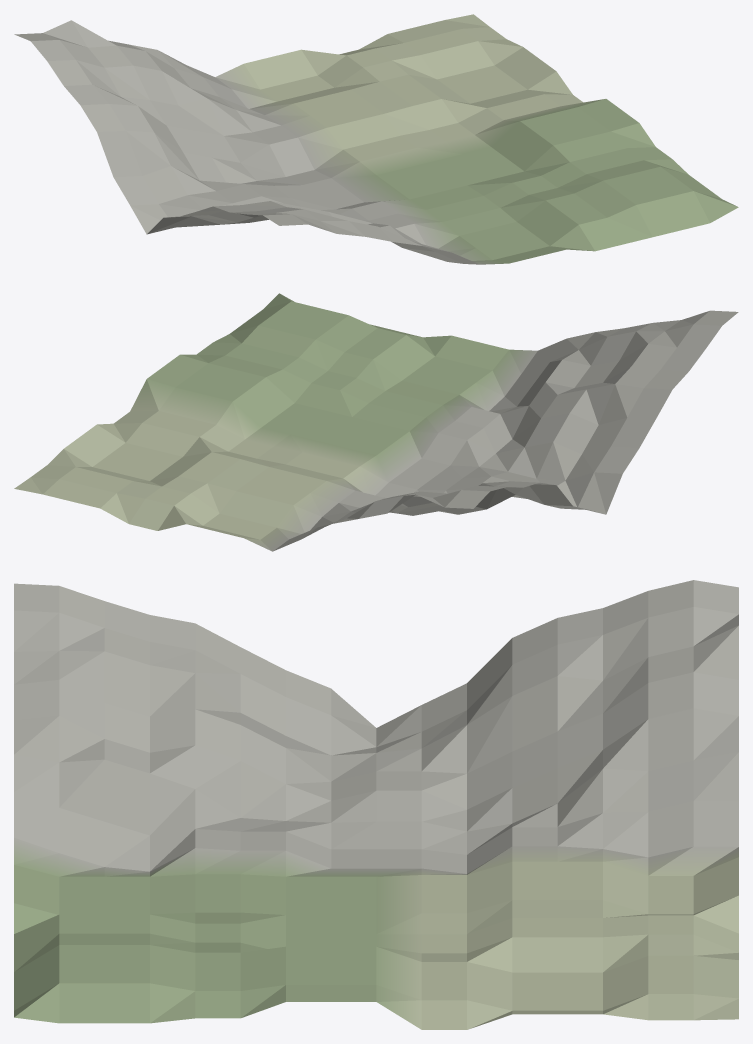
The picture shows the model from 3 angles, top to bottom: view 1: azimuth 30°, elevation 25°; view 2: azimuth 150°, elevation 25°; view 3: azimuth 270°, elevation 25°; orthographic projection. The views are drawn at different scales.
Bounding box in the file's own units: 32 × 7.79 × 32.
